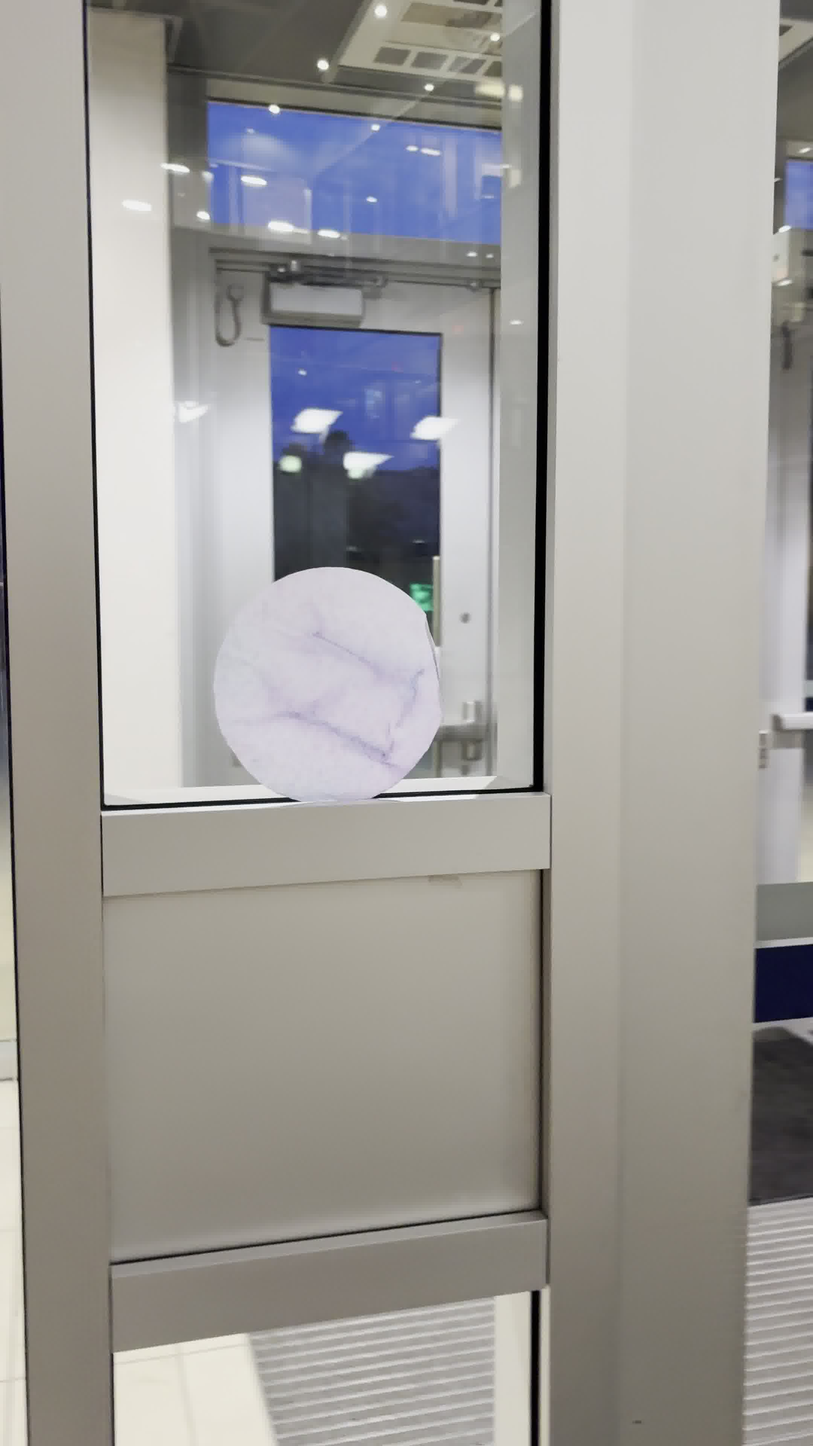Target: (213, 567, 440, 800)
